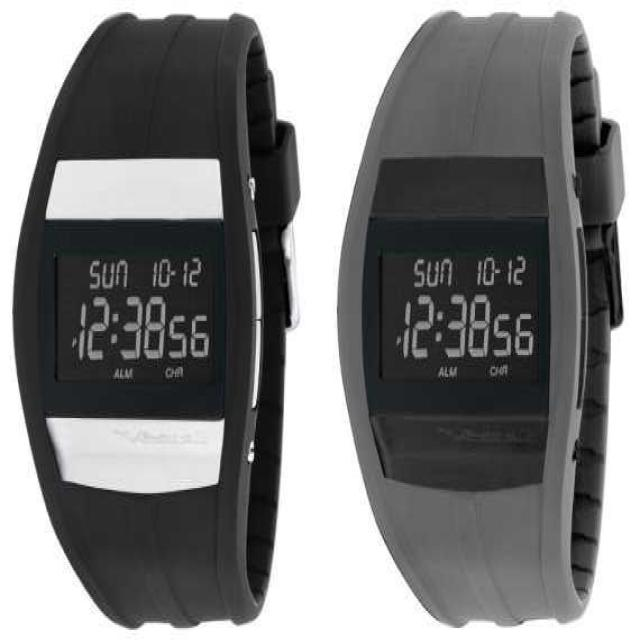watch: (369, 214, 552, 428), (35, 221, 231, 420)
